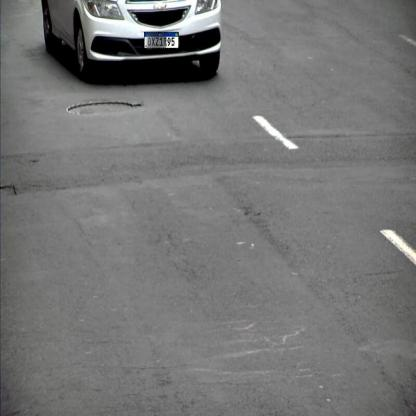PlacaM: (144, 32, 179, 48)
